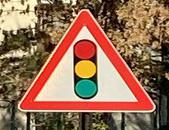Trafikisiklari: (18, 9, 156, 114)
